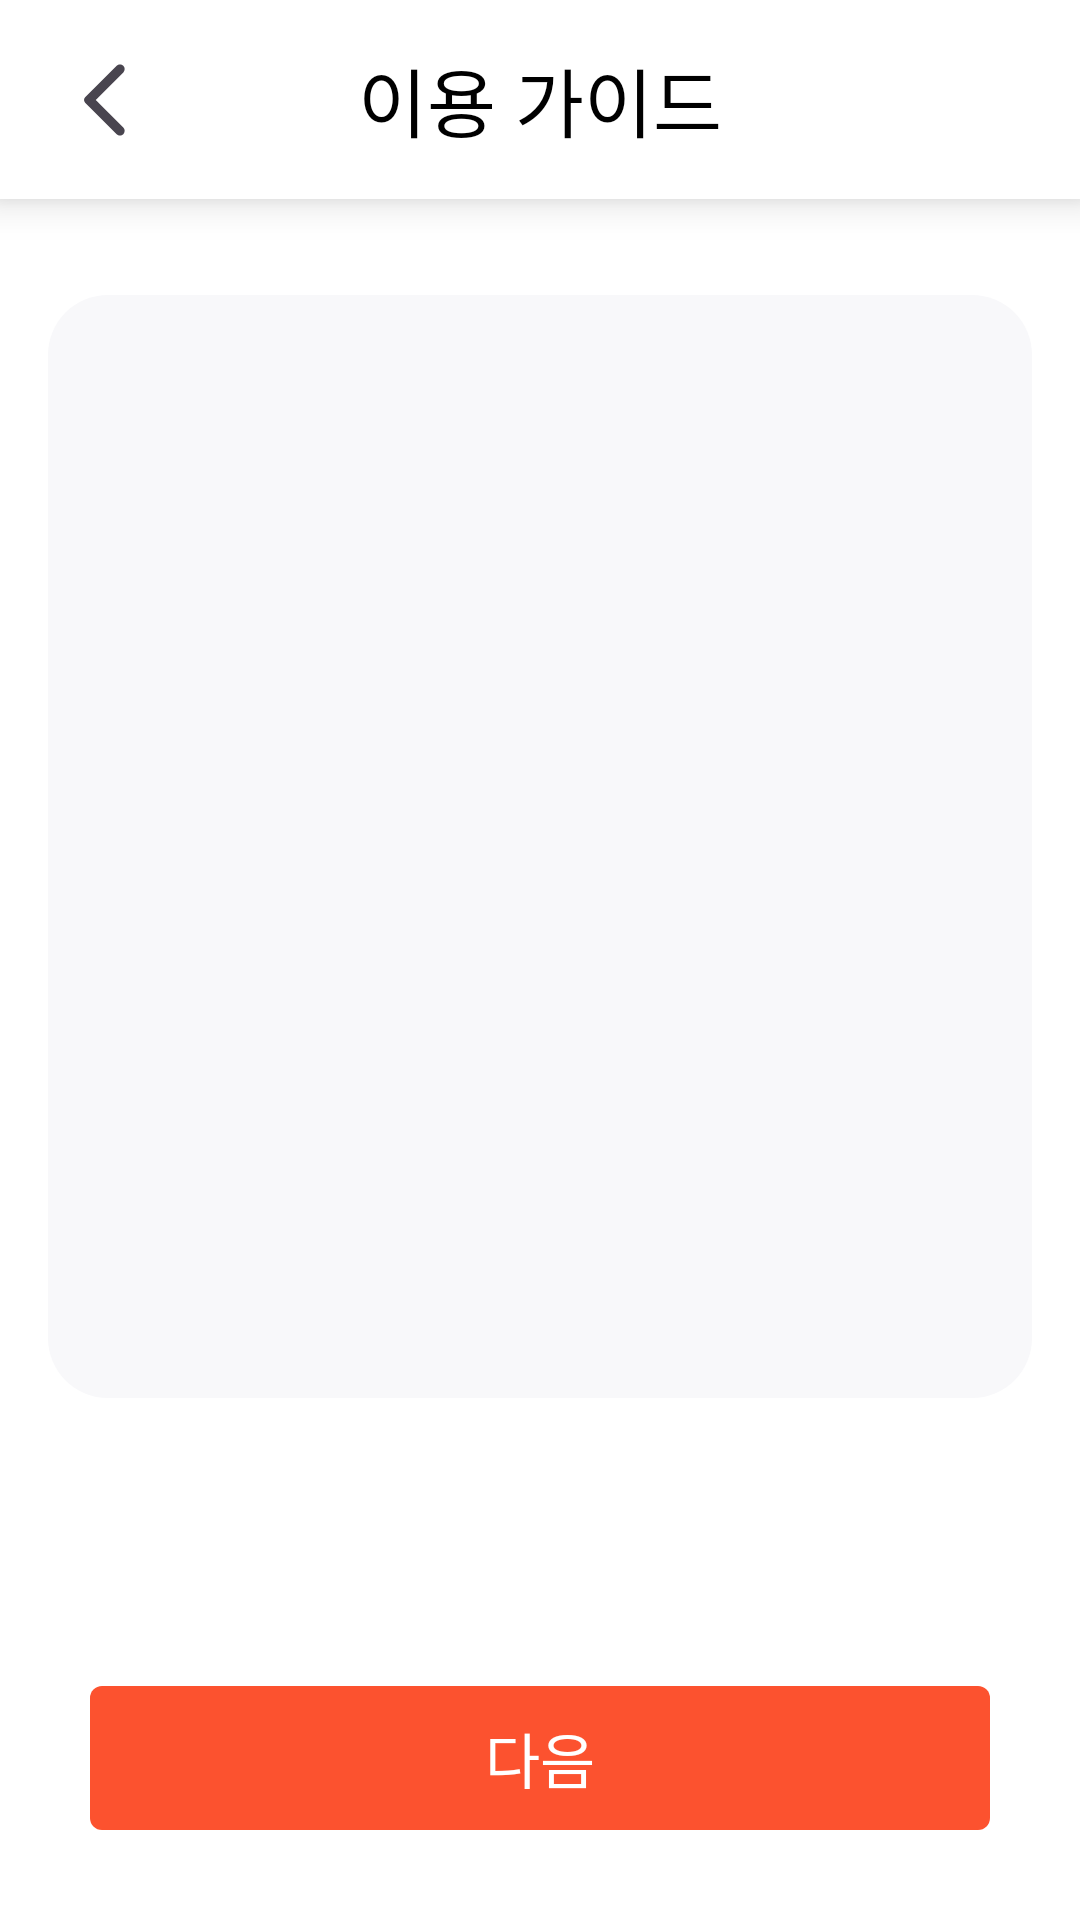

Locate icon controls on the screen. Image size 1080 × 1920, boxes as (x1, y1, x2, y2).
back: (84, 64, 125, 136)
